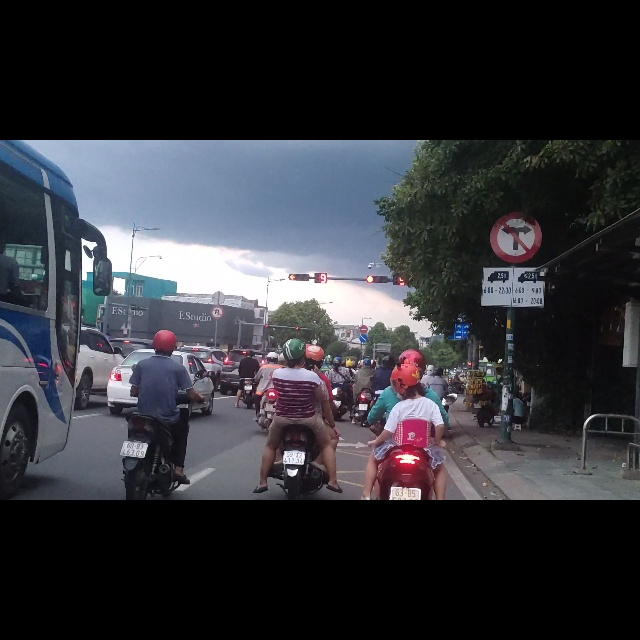bien_chi_dan: (480, 223, 545, 299), (490, 130, 541, 218), (210, 294, 224, 318), (359, 328, 368, 344), (359, 344, 367, 360)
